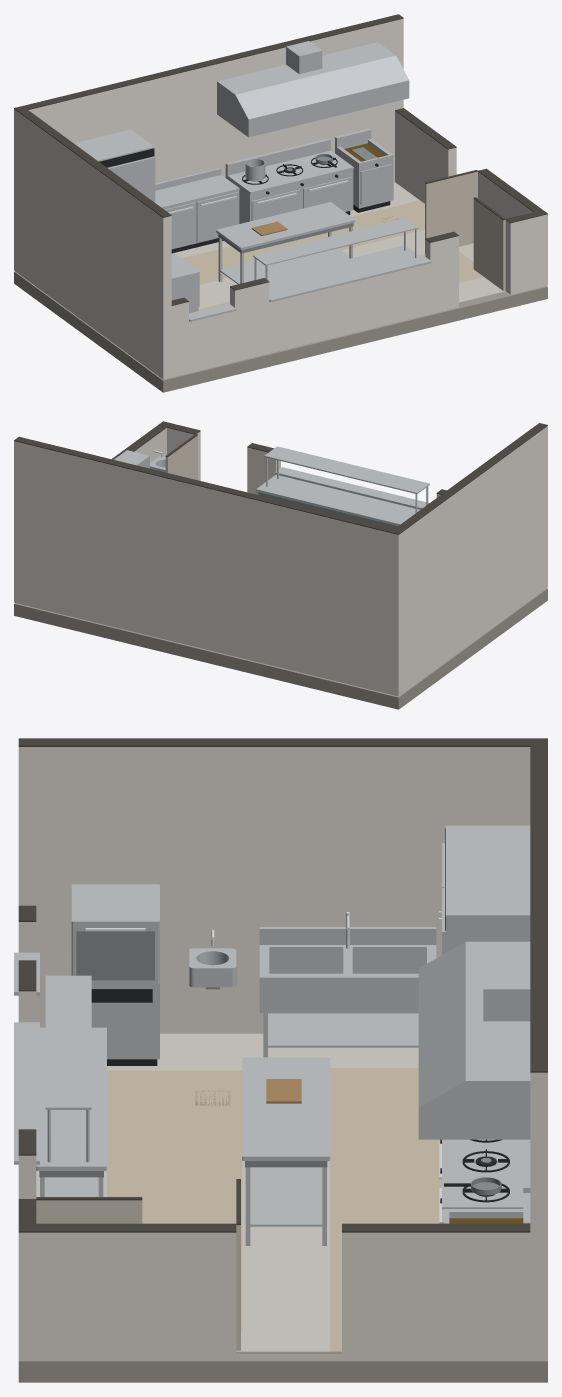
The model's file is kitchen.glb.
3 renders of one model, top to bottom at view 1: azimuth 30°, elevation 25°; view 2: azimuth 150°, elevation 25°; view 3: azimuth 270°, elevation 25°, orthographic. The views are drawn at different scales.
Visible parts, largest first — view 1: walls, floor, E05, E03, doors, E09, E02, E10, E04, E01, aisle2, counters (+2 smaller); view 2: walls, floor, E10, counters, doors, E05; view 3: walls, floor, E05, E06, aisle1, aisle2, E09, E10, E07, E01, E03, doors (+4 smaller).
Part boxes in pixels (box(x1,y1,x2,y2)): walls: box(14, 14, 547, 379); floor: box(14, 182, 547, 392); E05: box(217, 41, 409, 137); E03: box(225, 138, 353, 223); doors: box(425, 170, 505, 290); E09: box(216, 202, 355, 284); E02: box(155, 168, 239, 253); E10: box(253, 218, 420, 293); E04: box(335, 128, 393, 212); E01: box(74, 129, 155, 202); aisle2: box(182, 201, 424, 283); counters: box(189, 256, 431, 321); walls: box(14, 421, 547, 696); floor: box(14, 588, 547, 709); E10: box(256, 446, 429, 528); counters: box(275, 467, 429, 509); doors: box(165, 434, 197, 480); E05: box(114, 450, 149, 468); walls: box(18, 738, 547, 1359); floor: box(18, 1033, 547, 1382); E05: box(418, 941, 530, 1139); E06: box(259, 912, 436, 1057); aisle1: box(107, 1071, 241, 1330); aisle2: box(331, 1068, 441, 1350); E09: box(242, 1057, 330, 1245); E10: box(36, 975, 106, 1196); E07: box(71, 884, 159, 1065); E01: box(439, 825, 530, 954); E03: box(439, 1139, 530, 1223); doors: box(36, 1179, 240, 1350).
Size of the model in its own units: 6.7 by 2.92 by 4.54.
